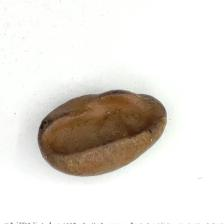NG: (39, 90, 163, 157)
